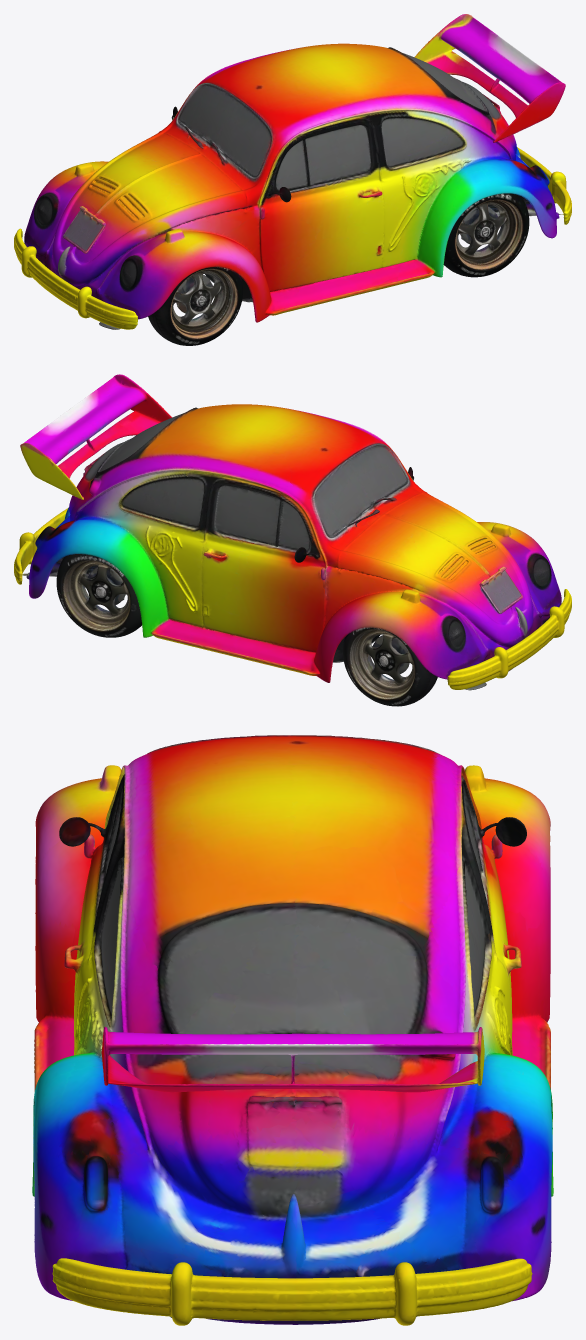
The model's file is VW_Beetle_Souped.glb.
The picture shows the model from 3 angles, top to bottom: view 1: azimuth 30°, elevation 25°; view 2: azimuth 150°, elevation 25°; view 3: azimuth 270°, elevation 25°; orthographic projection. The views are drawn at different scales.
Size of the model in its own units: 1.9 by 0.7198 by 0.8799.
Materials: 1 (1 with a texture image).
